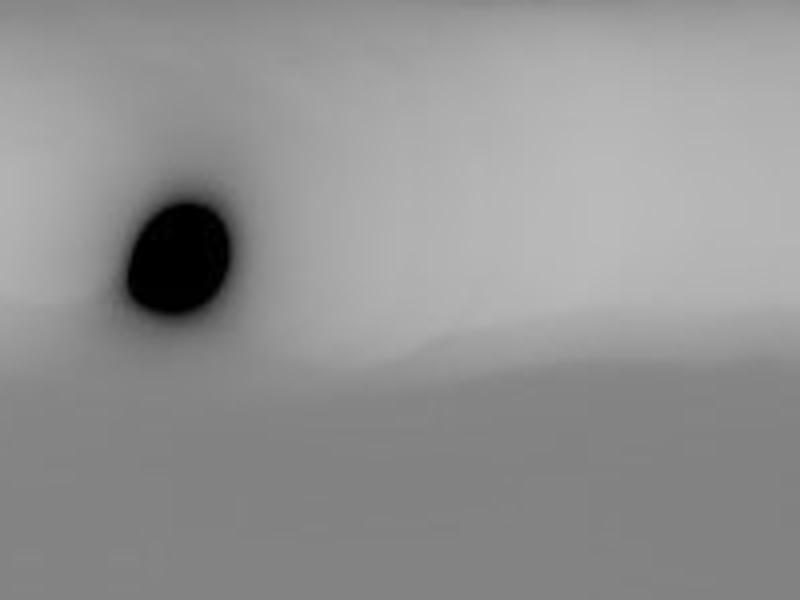defect: (127, 200, 236, 318)
